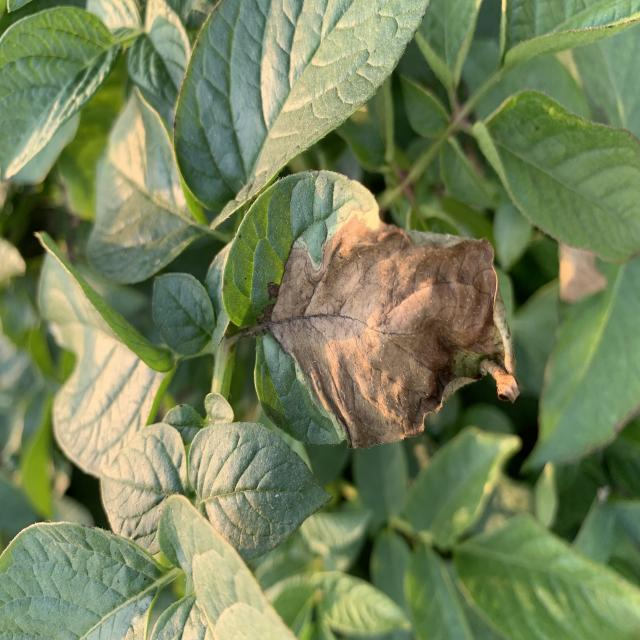lateblight: (268, 212, 519, 447)
